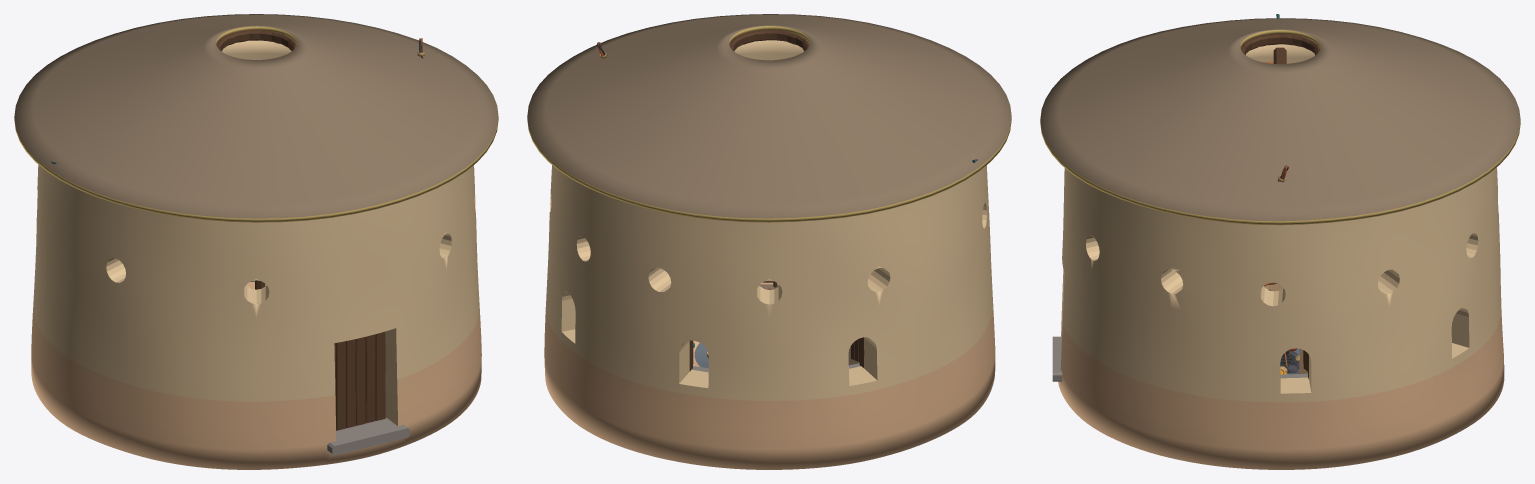
The model's file is nomad_interior.fbx.
3 views of the same model, side by side, from view 1: azimuth 30°, elevation 25°; view 2: azimuth 150°, elevation 25°; view 3: azimuth 270°, elevation 25° (orthographic).
Parts seen in each view (by area): view 1: NomadHome_Shell; view 2: NomadHome_Shell; view 3: NomadHome_Shell, NomadHome_Props.
Part boxes in pixels (box(x1,y1,x2,y2)): NomadHome_Shell: box(14, 14, 498, 469); NomadHome_Shell: box(527, 14, 1011, 469); NomadHome_Shell: box(1040, 18, 1520, 469); NomadHome_Props: box(1264, 14, 1307, 374).
Bounding box in the file's own units: 1950 × 1478 × 1950.
